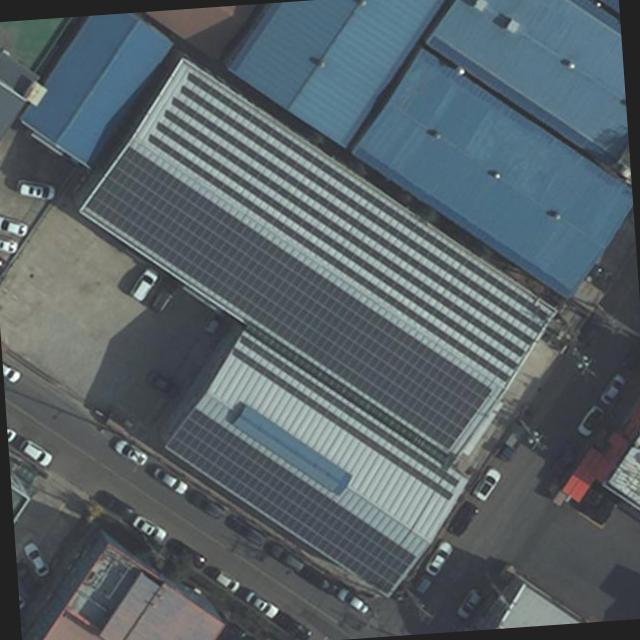solar: (73, 116, 497, 475), (156, 82, 528, 386), (176, 59, 547, 361), (151, 96, 520, 398), (186, 47, 554, 348), (145, 108, 512, 409), (167, 72, 533, 372), (156, 387, 422, 612), (230, 329, 458, 518), (235, 317, 464, 503)
